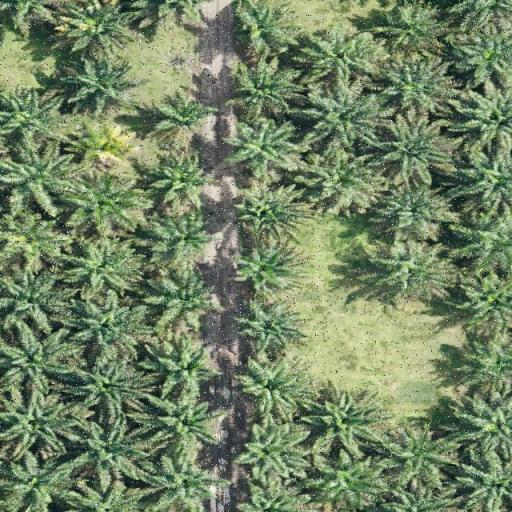Ganoderma: (75, 130, 131, 166)
